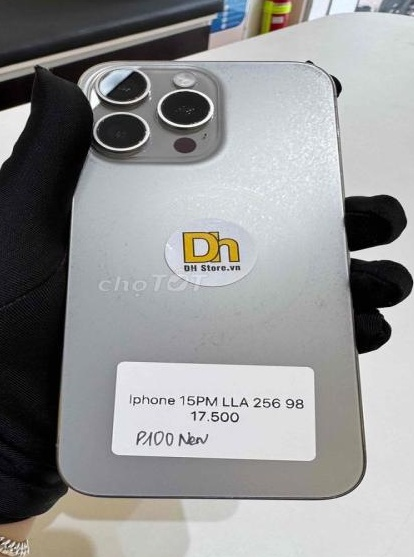scratch: (85, 222, 152, 342), (170, 322, 302, 359), (310, 166, 354, 268), (272, 48, 347, 93), (205, 57, 284, 89), (303, 267, 340, 315)
